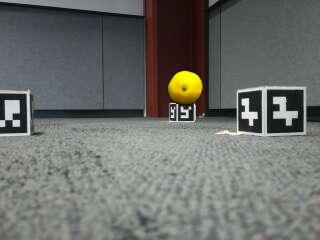lemon: (169, 71, 203, 104)
